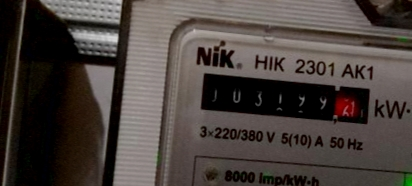0: (232, 83, 245, 103), (209, 81, 220, 100)
1: (276, 85, 287, 104)
3: (254, 85, 266, 106)
6: (342, 100, 353, 115)
9: (297, 86, 309, 107), (319, 90, 331, 109)
screen: (194, 59, 381, 132)
